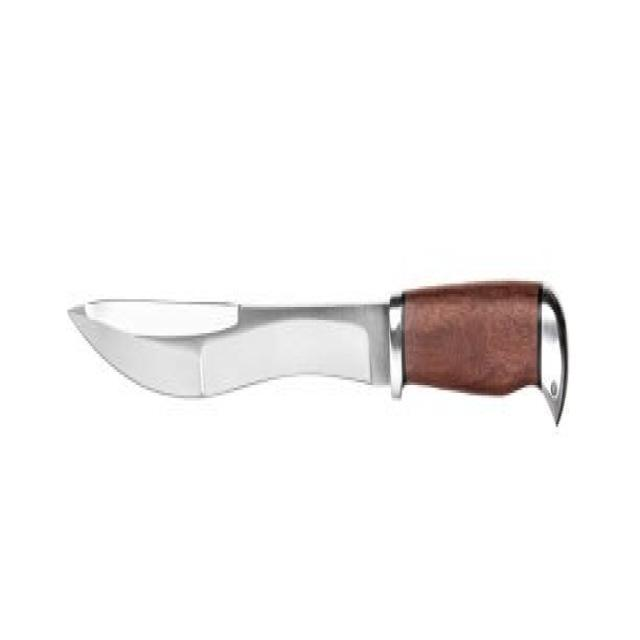knife: (66, 278, 573, 430)
